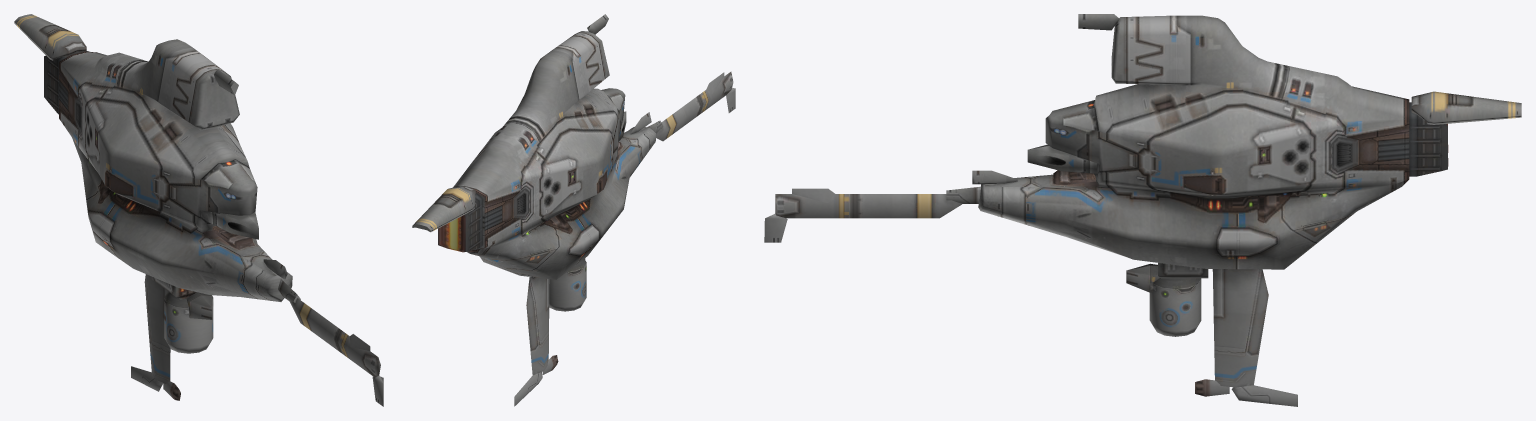
The model's file is yao_sf_scou_01_t2.glb.
The picture shows the model from 3 angles, left to right: view 1: azimuth 30°, elevation 25°; view 2: azimuth 150°, elevation 25°; view 3: azimuth 270°, elevation 25°; orthographic projection. The views are drawn at different scales.
Visible parts, largest first — view 1: yao_scout_01_LOD0; view 2: yao_scout_01_LOD0; view 3: yao_scout_01_LOD0.
Part boxes in pixels (bbox=[...]): yao_scout_01_LOD0: bbox=[14, 14, 383, 406]; yao_scout_01_LOD0: bbox=[412, 14, 735, 406]; yao_scout_01_LOD0: bbox=[764, 14, 1521, 406].
Size of what is drawn, in the model's own units: 0.1542 by 0.4531 by 0.7913.
1 material, 1 textured.
